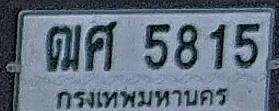1: (209, 22, 226, 68)
5: (234, 22, 260, 68), (144, 22, 170, 68)
8: (175, 23, 198, 68)
A18: (47, 24, 82, 71)
A38: (85, 20, 116, 70)
BKK: (52, 81, 231, 111)
